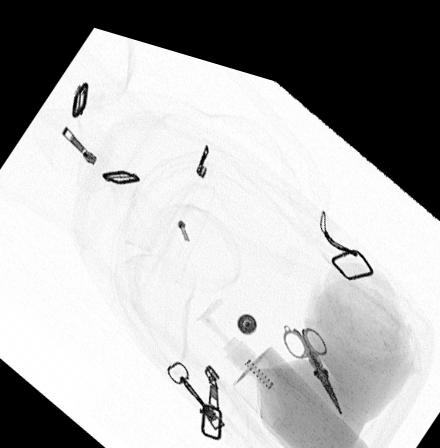Scissors: (282, 305, 342, 396)
